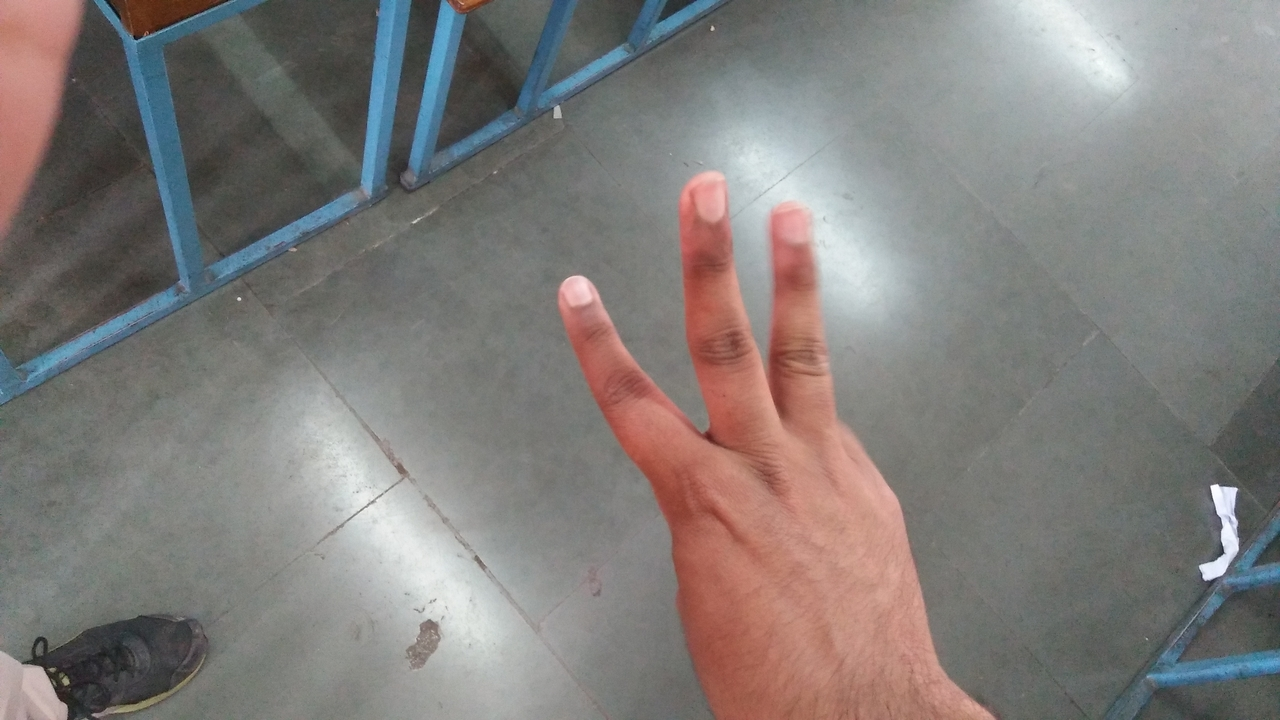fingertip: (672, 164, 740, 224), (548, 262, 608, 326), (762, 196, 824, 250)
